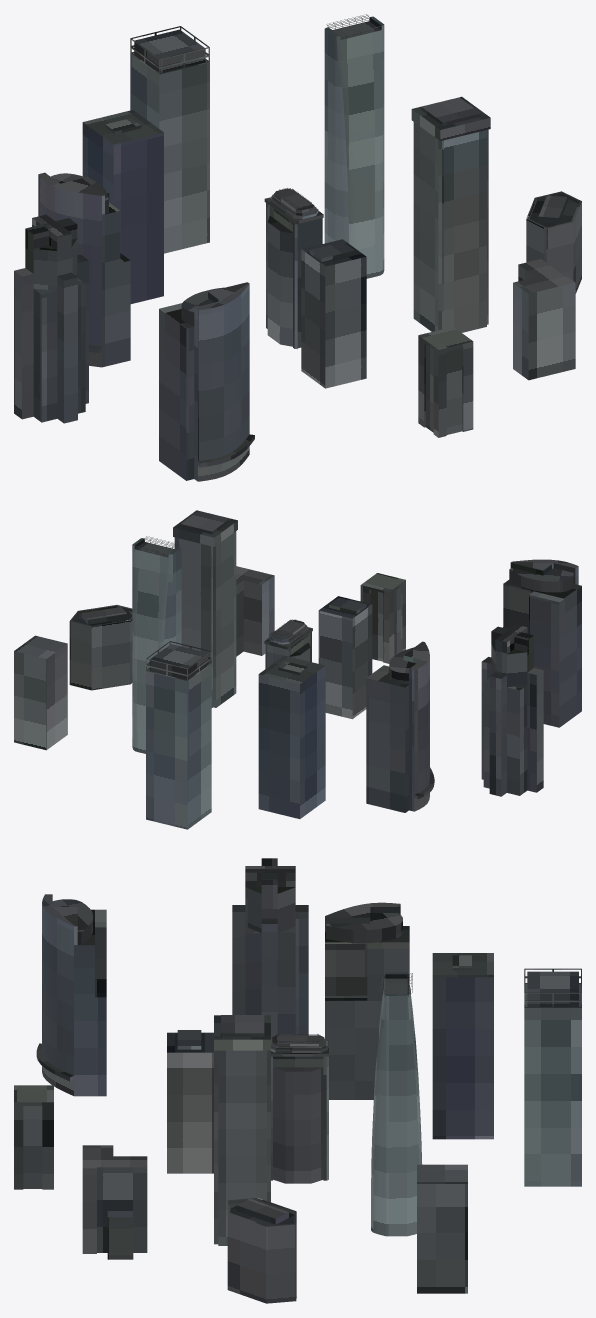
File: skyline.glb
3 views of the same model, one above another, from view 1: azimuth 30°, elevation 25°; view 2: azimuth 150°, elevation 25°; view 3: azimuth 270°, elevation 25° (orthographic). The views are drawn at different scales.
Parts seen in each view (by area): view 1: Cube.001_Background_Night_Buildings_0; view 2: Cube.001_Background_Night_Buildings_0; view 3: Cube.001_Background_Night_Buildings_0.
Boxes of the visible parts, box(x1,y1,x2,y2) form: Cube.001_Background_Night_Buildings_0: box(14, 14, 581, 481); Cube.001_Background_Night_Buildings_0: box(14, 510, 581, 829); Cube.001_Background_Night_Buildings_0: box(14, 858, 581, 1303).
Bounding box in the file's own units: 196 × 81.98 × 173.
1 material, 1 textured.
